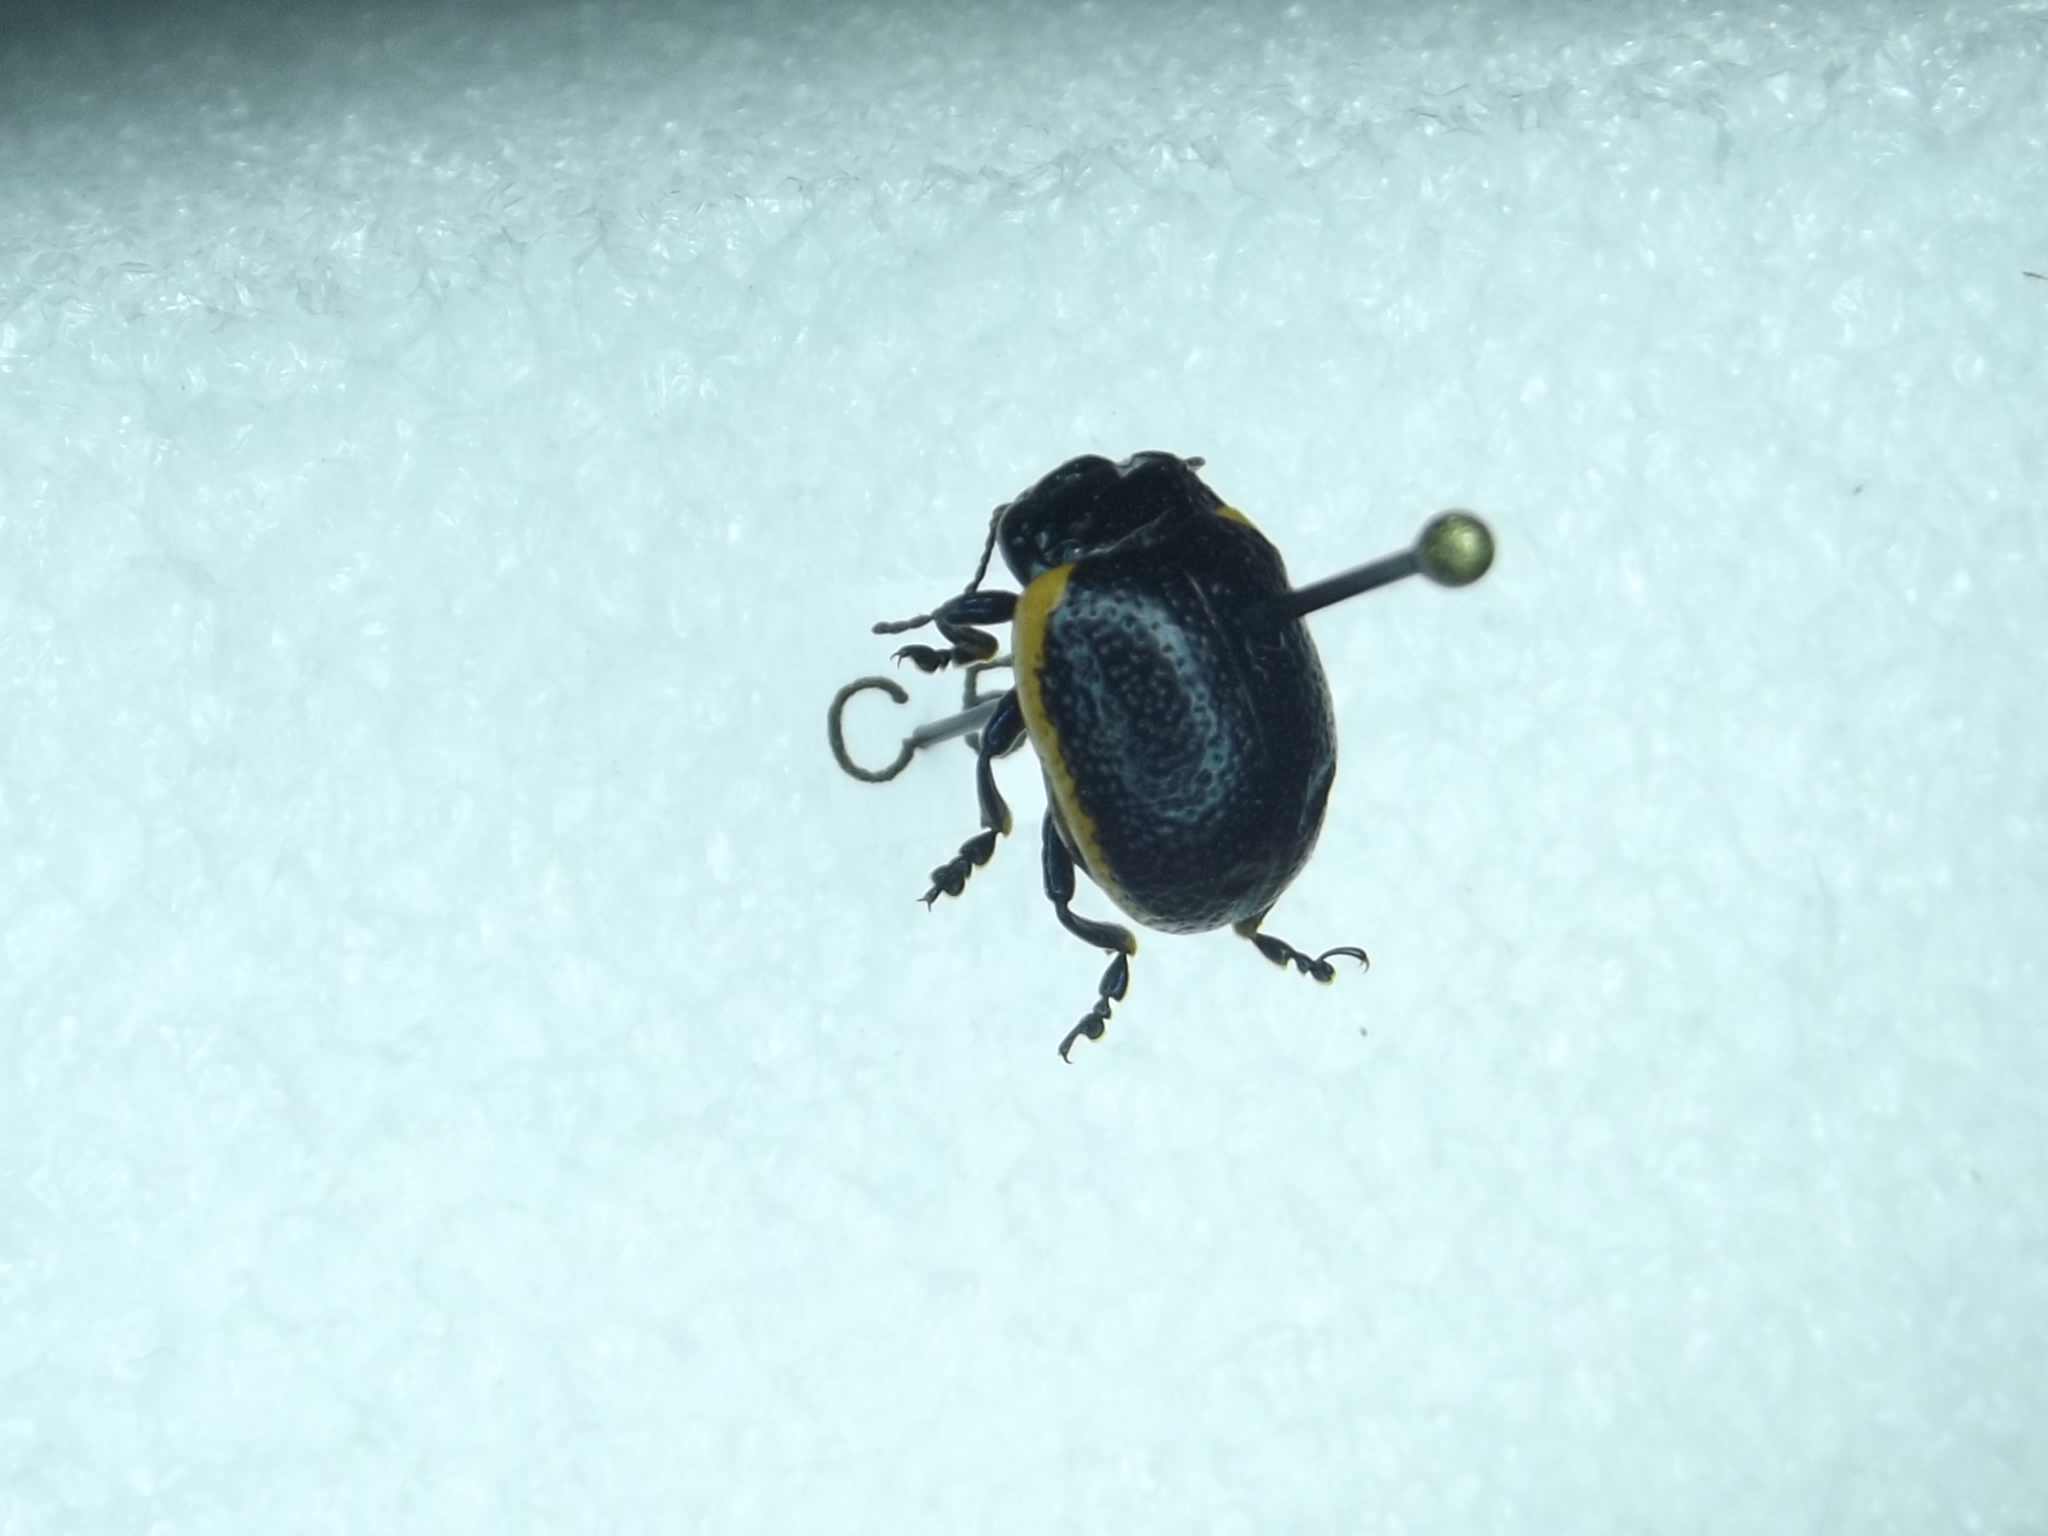Chrysolina_gypsophila: (871, 429, 1371, 1063)
